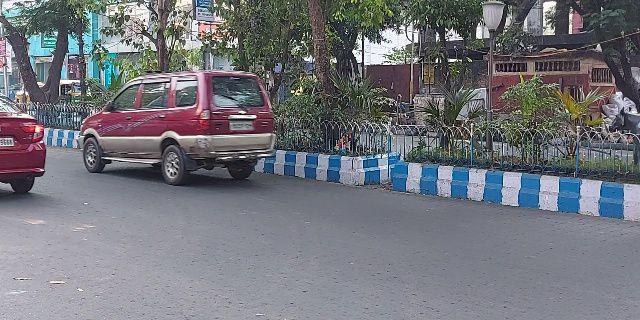Car: (77, 70, 278, 186), (1, 92, 48, 195)
